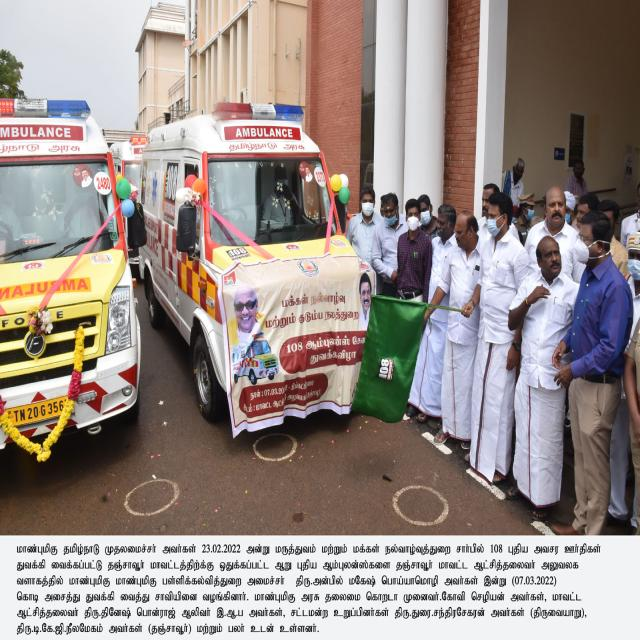ambulance: (142, 104, 376, 421), (0, 96, 141, 446)
